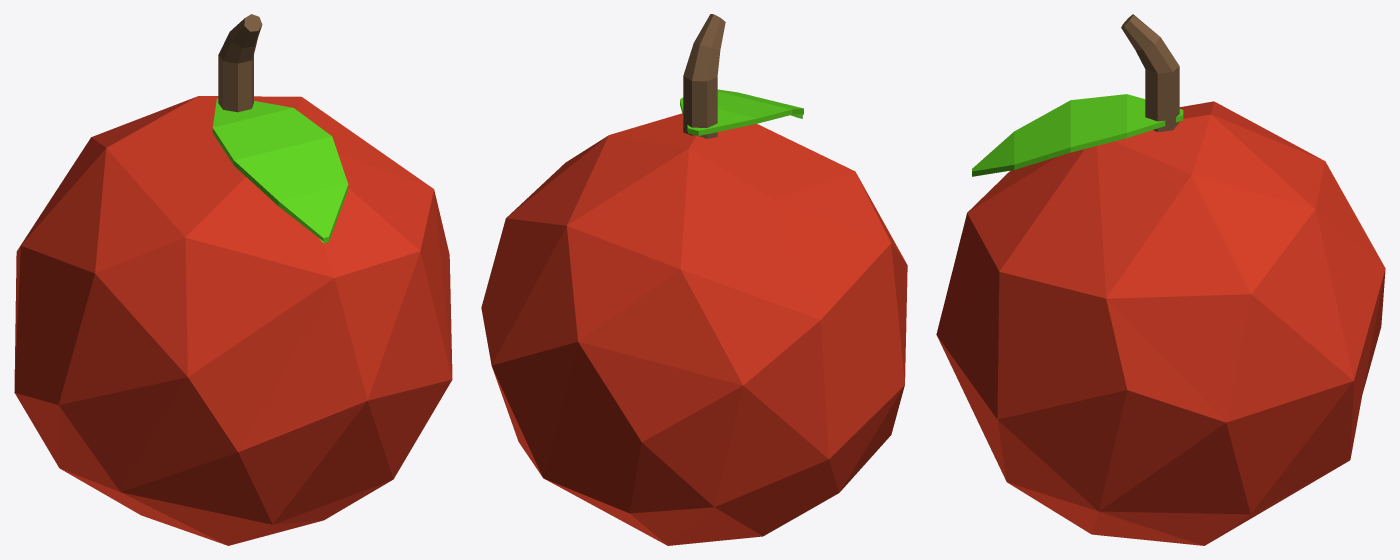
The model's file is apple.fbx.
3 renders of one model, left to right at view 1: azimuth 30°, elevation 25°; view 2: azimuth 150°, elevation 25°; view 3: azimuth 270°, elevation 25°, orthographic. The views are drawn at different scales.
Parts seen in each view (by area): view 1: Icosphere, Plane, Cylinder; view 2: Icosphere, Cylinder, Plane; view 3: Icosphere, Plane, Cylinder.
Part boxes in pixels (x1=…): Icosphere: x1=14, y1=96, x2=452, y2=545; Plane: x1=212, y1=98, x2=348, y2=243; Cylinder: x1=218, y1=14, x2=262, y2=112; Icosphere: x1=481, y1=113, x2=907, y2=545; Cylinder: x1=683, y1=14, x2=725, y2=138; Plane: x1=680, y1=89, x2=803, y2=135; Icosphere: x1=936, y1=101, x2=1385, y2=545; Plane: x1=972, y1=94, x2=1183, y2=176; Cylinder: x1=1121, y1=14, x2=1179, y2=131.
Bounding box in the file's own units: 50.75 × 64.21 × 51.29.
